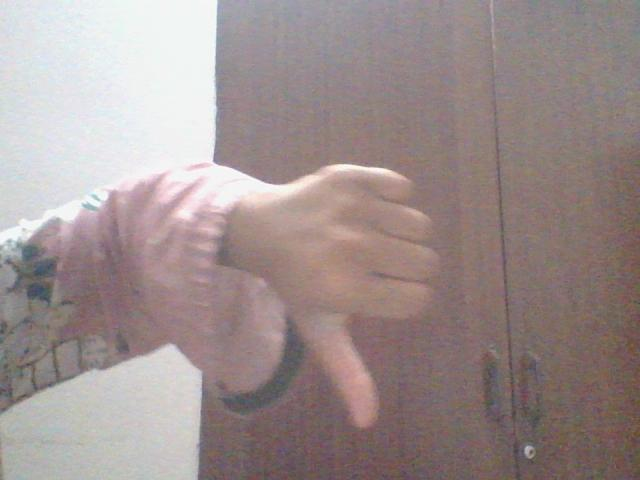thumbs-down: (288, 156, 452, 430)
